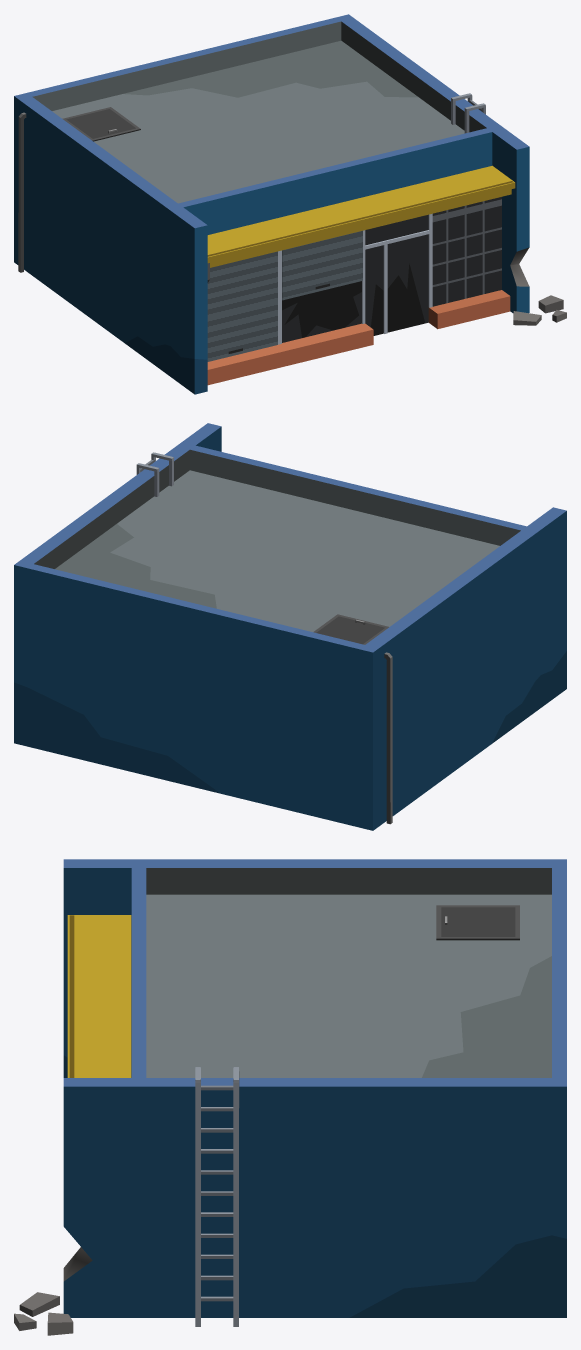
Rendered from SA_Bld_ShopSmall_02.gltf.
3 renders of one model, top to bottom at view 1: azimuth 30°, elevation 25°; view 2: azimuth 150°, elevation 25°; view 3: azimuth 270°, elevation 25°, orthographic. The views are drawn at different scales.
Visible parts, largest first — view 1: SA_Bld_ShopSmall_02; view 2: SA_Bld_ShopSmall_02; view 3: SA_Bld_ShopSmall_02.
Part boxes in pixels (<box>): SA_Bld_ShopSmall_02: <box>14,14,566,394</box>; SA_Bld_ShopSmall_02: <box>14,423,566,830</box>; SA_Bld_ShopSmall_02: <box>14,859,566,1335</box>.
Size of the model in its own units: 13.76 by 6.33 by 12.83.
Materials: 1 (1 with a texture image).
